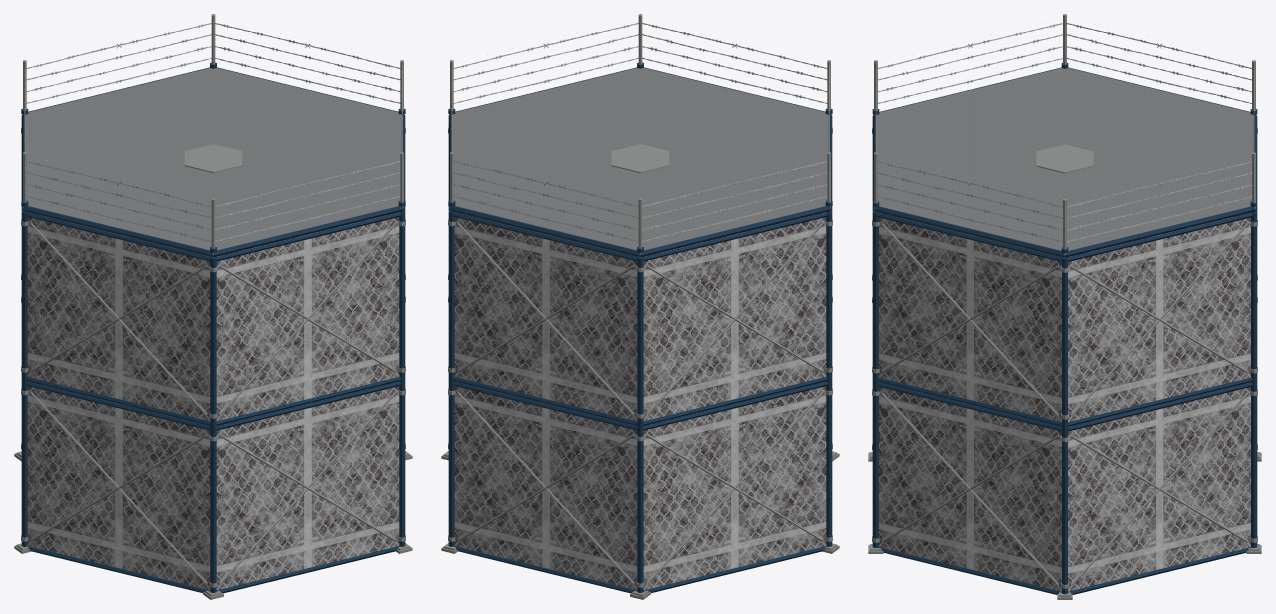
The model's file is terminal.glb.
3 views of the same model, side by side, from view 1: azimuth 30°, elevation 25°; view 2: azimuth 150°, elevation 25°; view 3: azimuth 270°, elevation 25° (orthographic).
Visible parts, largest first — view 1: terminal-lod0-base0, terminal-lod0-floor0, terminal-lod0-roof0; view 2: terminal-lod0-base0, terminal-lod0-floor0, terminal-lod0-roof0; view 3: terminal-lod0-base0, terminal-lod0-floor0, terminal-lod0-roof0.
Boxes of the visible parts, box(x1,y1,x2,y2) form: terminal-lod0-base0: box(14, 296, 412, 599); terminal-lod0-floor0: box(21, 127, 405, 427); terminal-lod0-roof0: box(21, 14, 405, 257); terminal-lod0-base0: box(441, 296, 839, 599); terminal-lod0-floor0: box(448, 127, 832, 427); terminal-lod0-roof0: box(448, 14, 832, 257); terminal-lod0-base0: box(868, 297, 1261, 599); terminal-lod0-floor0: box(872, 128, 1257, 428); terminal-lod0-roof0: box(872, 14, 1257, 257).
Size of what is drawn, in the model's own units: 43.53 by 42.2 by 37.9.
Materials: 6 (6 with a texture image).
